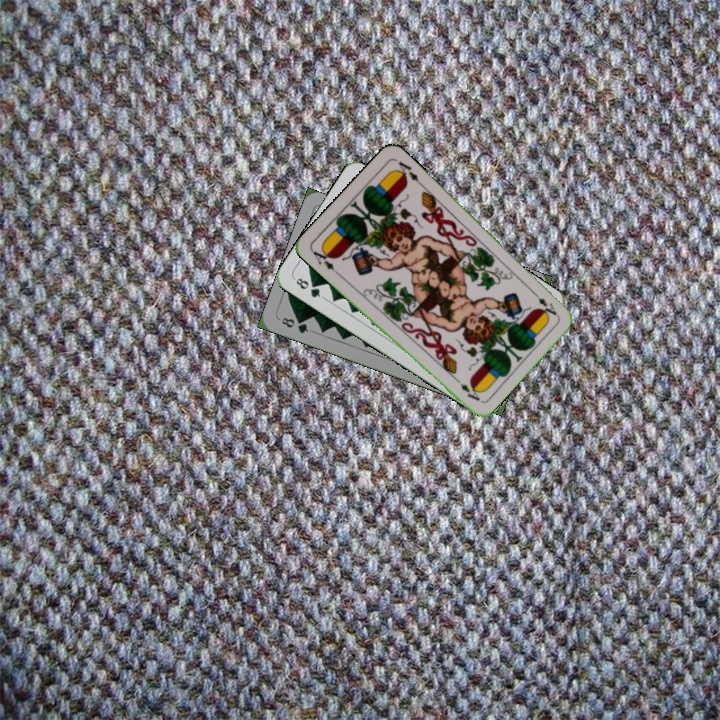EA: (308, 244, 337, 272), (534, 293, 560, 318)
G8: (290, 274, 327, 301), (277, 313, 311, 336)
